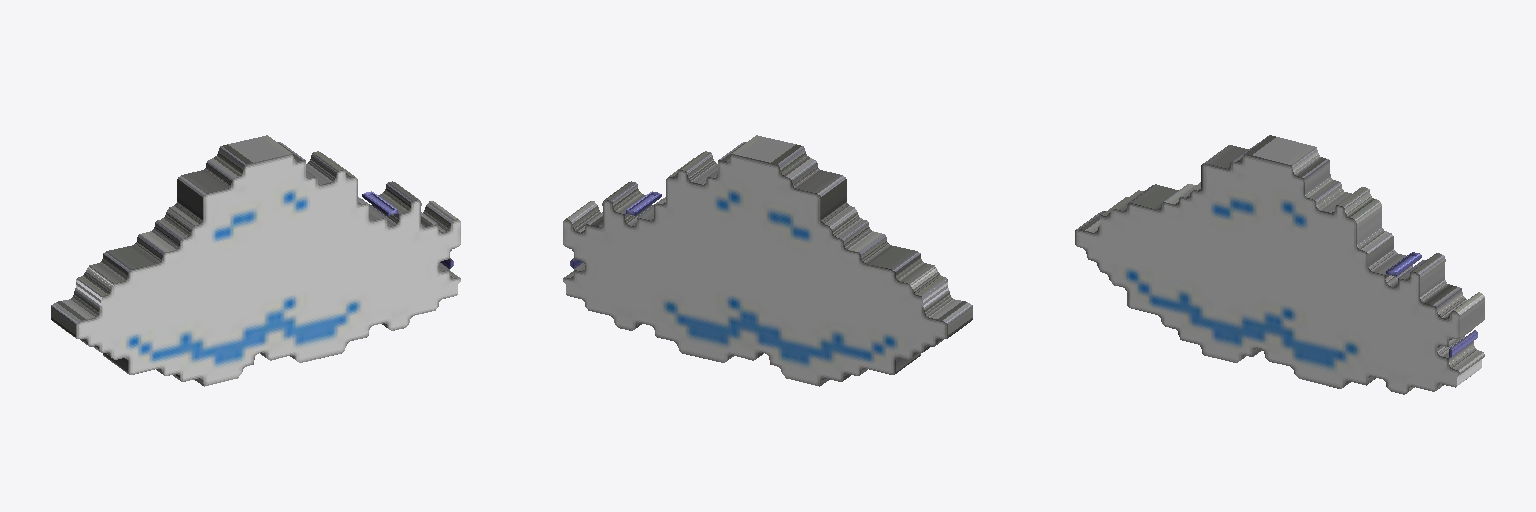
3 views of the same model, side by side, from view 1: azimuth 30°, elevation 25°; view 2: azimuth 150°, elevation 25°; view 3: azimuth 330°, elevation 25° (orthographic).
Parts seen in each view (by area): view 1: Object.3; view 2: Object.3; view 3: Object.3.
Part boxes in pixels (x1,y1,x2,y2): Object.3: (51, 135, 460, 386); Object.3: (563, 135, 972, 386); Object.3: (1075, 135, 1484, 394).
Bounding box in the file's own units: 162 × 85.34 × 18.39.
Materials: 1 (1 with a texture image).